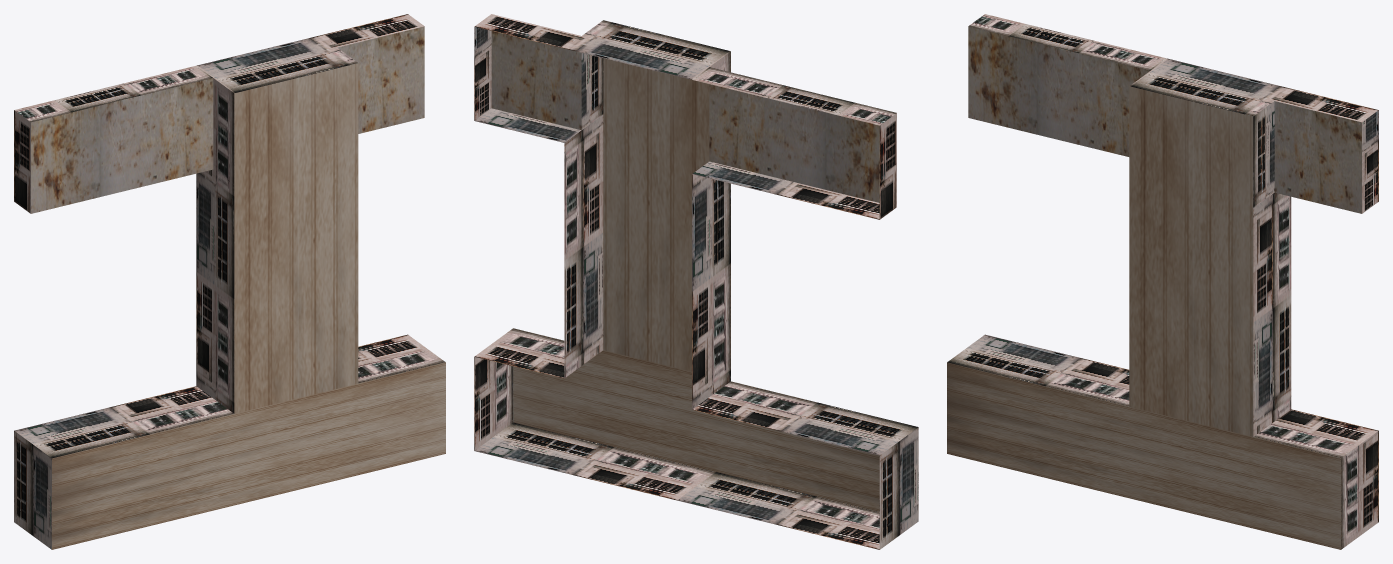
The model's file is urbaniron02c_wtf.obj.
3 renders of one model, left to right at view 1: azimuth 30°, elevation 25°; view 2: azimuth 150°, elevation 25°; view 3: azimuth 330°, elevation 25°, orthographic. The views are drawn at different scales.
Visible parts, largest first — view 1: group4, group3, group5; view 2: group3, group4, group5; view 3: group4, group3, group5.
Part boxes in pixels (<box>): group4: <box>52,63,445,549</box>; group3: <box>14,14,445,549</box>; group5: <box>31,26,424,213</box>; group3: <box>474,14,918,549</box>; group4: <box>513,58,879,511</box>; group5: <box>491,31,879,202</box>; group4: <box>947,86,1340,549</box>; group3: <box>947,14,1378,549</box>; group5: <box>968,26,1361,213</box>.
Size of the model in its own units: 660 by 660 by 110.
